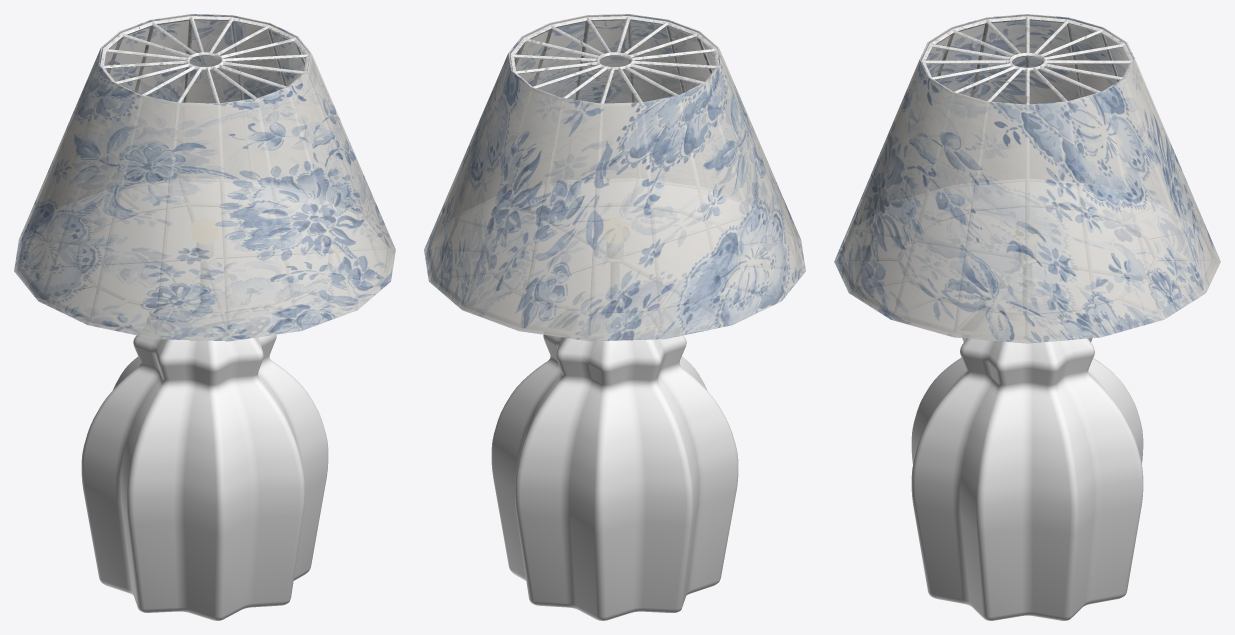
Rendered from lamp1-transformed.glb.
3 renders of one model, left to right at view 1: azimuth 30°, elevation 25°; view 2: azimuth 150°, elevation 25°; view 3: azimuth 270°, elevation 25°, orthographic.
Visible parts, largest first — view 1: Table Lamp fabric, Table Lamp bottom, Table Lamp fabric rim; view 2: Table Lamp fabric, Table Lamp bottom, Table Lamp fabric rim; view 3: Table Lamp fabric, Table Lamp bottom, Table Lamp fabric rim.
Part boxes in pixels (x1=…): Table Lamp fabric: x1=14, y1=14, x2=395, y2=341; Table Lamp bottom: x1=81, y1=334, x2=328, y2=620; Table Lamp fabric rim: x1=99, y1=16, x2=309, y2=103; Table Lamp fabric: x1=424, y1=14, x2=805, y2=341; Table Lamp bottom: x1=491, y1=334, x2=738, y2=620; Table Lamp fabric rim: x1=510, y1=16, x2=720, y2=103; Table Lamp fabric: x1=834, y1=14, x2=1220, y2=343; Table Lamp bottom: x1=911, y1=338, x2=1143, y2=620; Table Lamp fabric rim: x1=921, y1=16, x2=1133, y2=104.
Size of the model in its own units: 1.77 by 2.63 by 1.77.
Materials: 4 (3 with a texture image).
